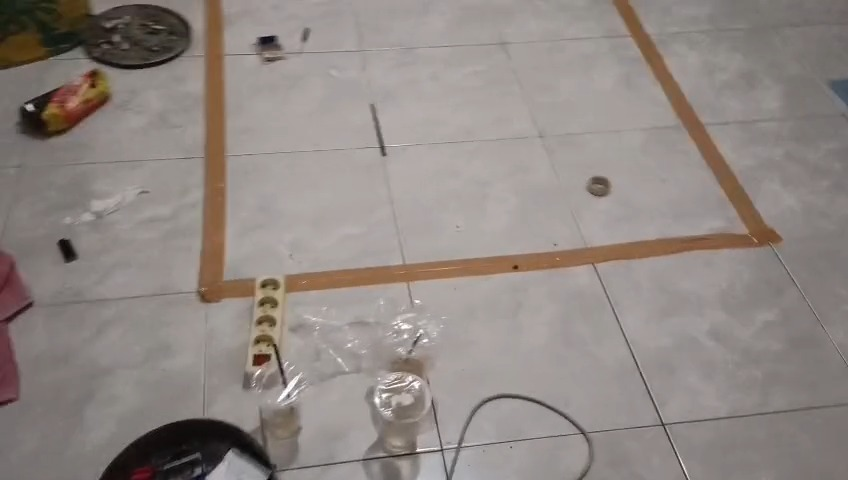floor marking: (285, 0, 781, 293), (198, 117, 253, 302), (204, 0, 225, 114)
